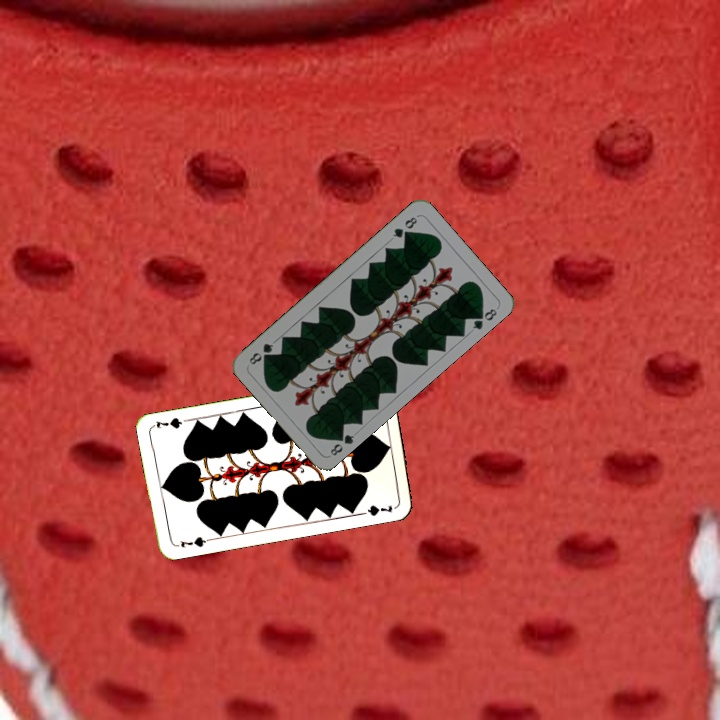G7: (171, 532, 212, 550)
G8: (326, 428, 357, 458), (389, 213, 420, 241)
